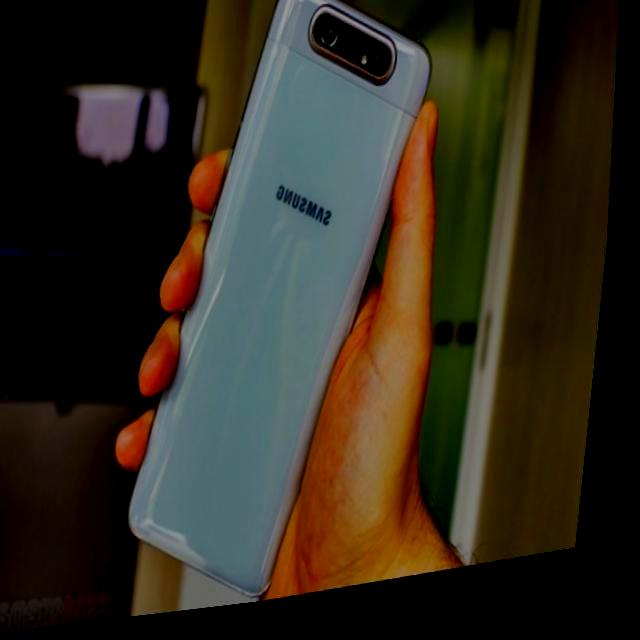lens: (310, 10, 390, 79)
phone: (125, 0, 436, 597)
